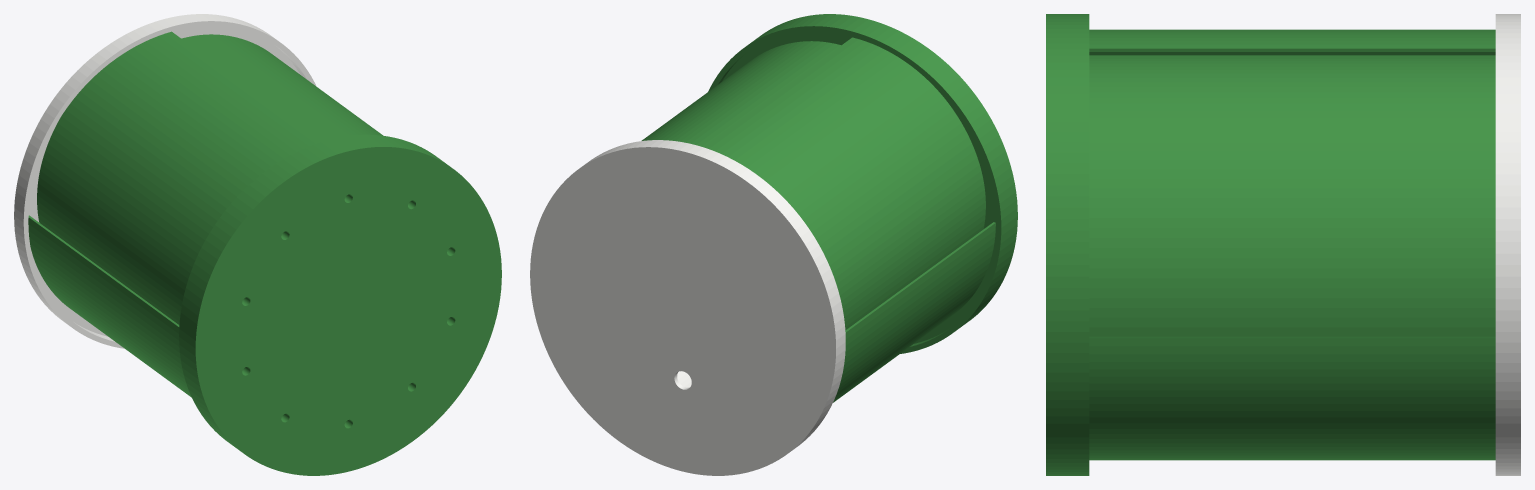
Rendered from green_indicator.dae.
3 renders of one model, left to right at view 1: azimuth 30°, elevation 25°; view 2: azimuth 150°, elevation 25°; view 3: azimuth 270°, elevation 25°, orthographic. The views are drawn at different scales.
Visible parts, largest first — view 1: node1, node0; view 2: node0, node1; view 3: node1, node0.
Boxes of the visible parts, x1,y1,x2,y2 form: node1: [28, 31, 501, 475]; node0: [14, 14, 316, 348]; node0: [530, 140, 845, 475]; node1: [641, 14, 1017, 402]; node1: [1046, 14, 1495, 475]; node0: [1495, 14, 1520, 475].
Size of the model in its own units: 0.128 by 0.1315 by 0.128.
